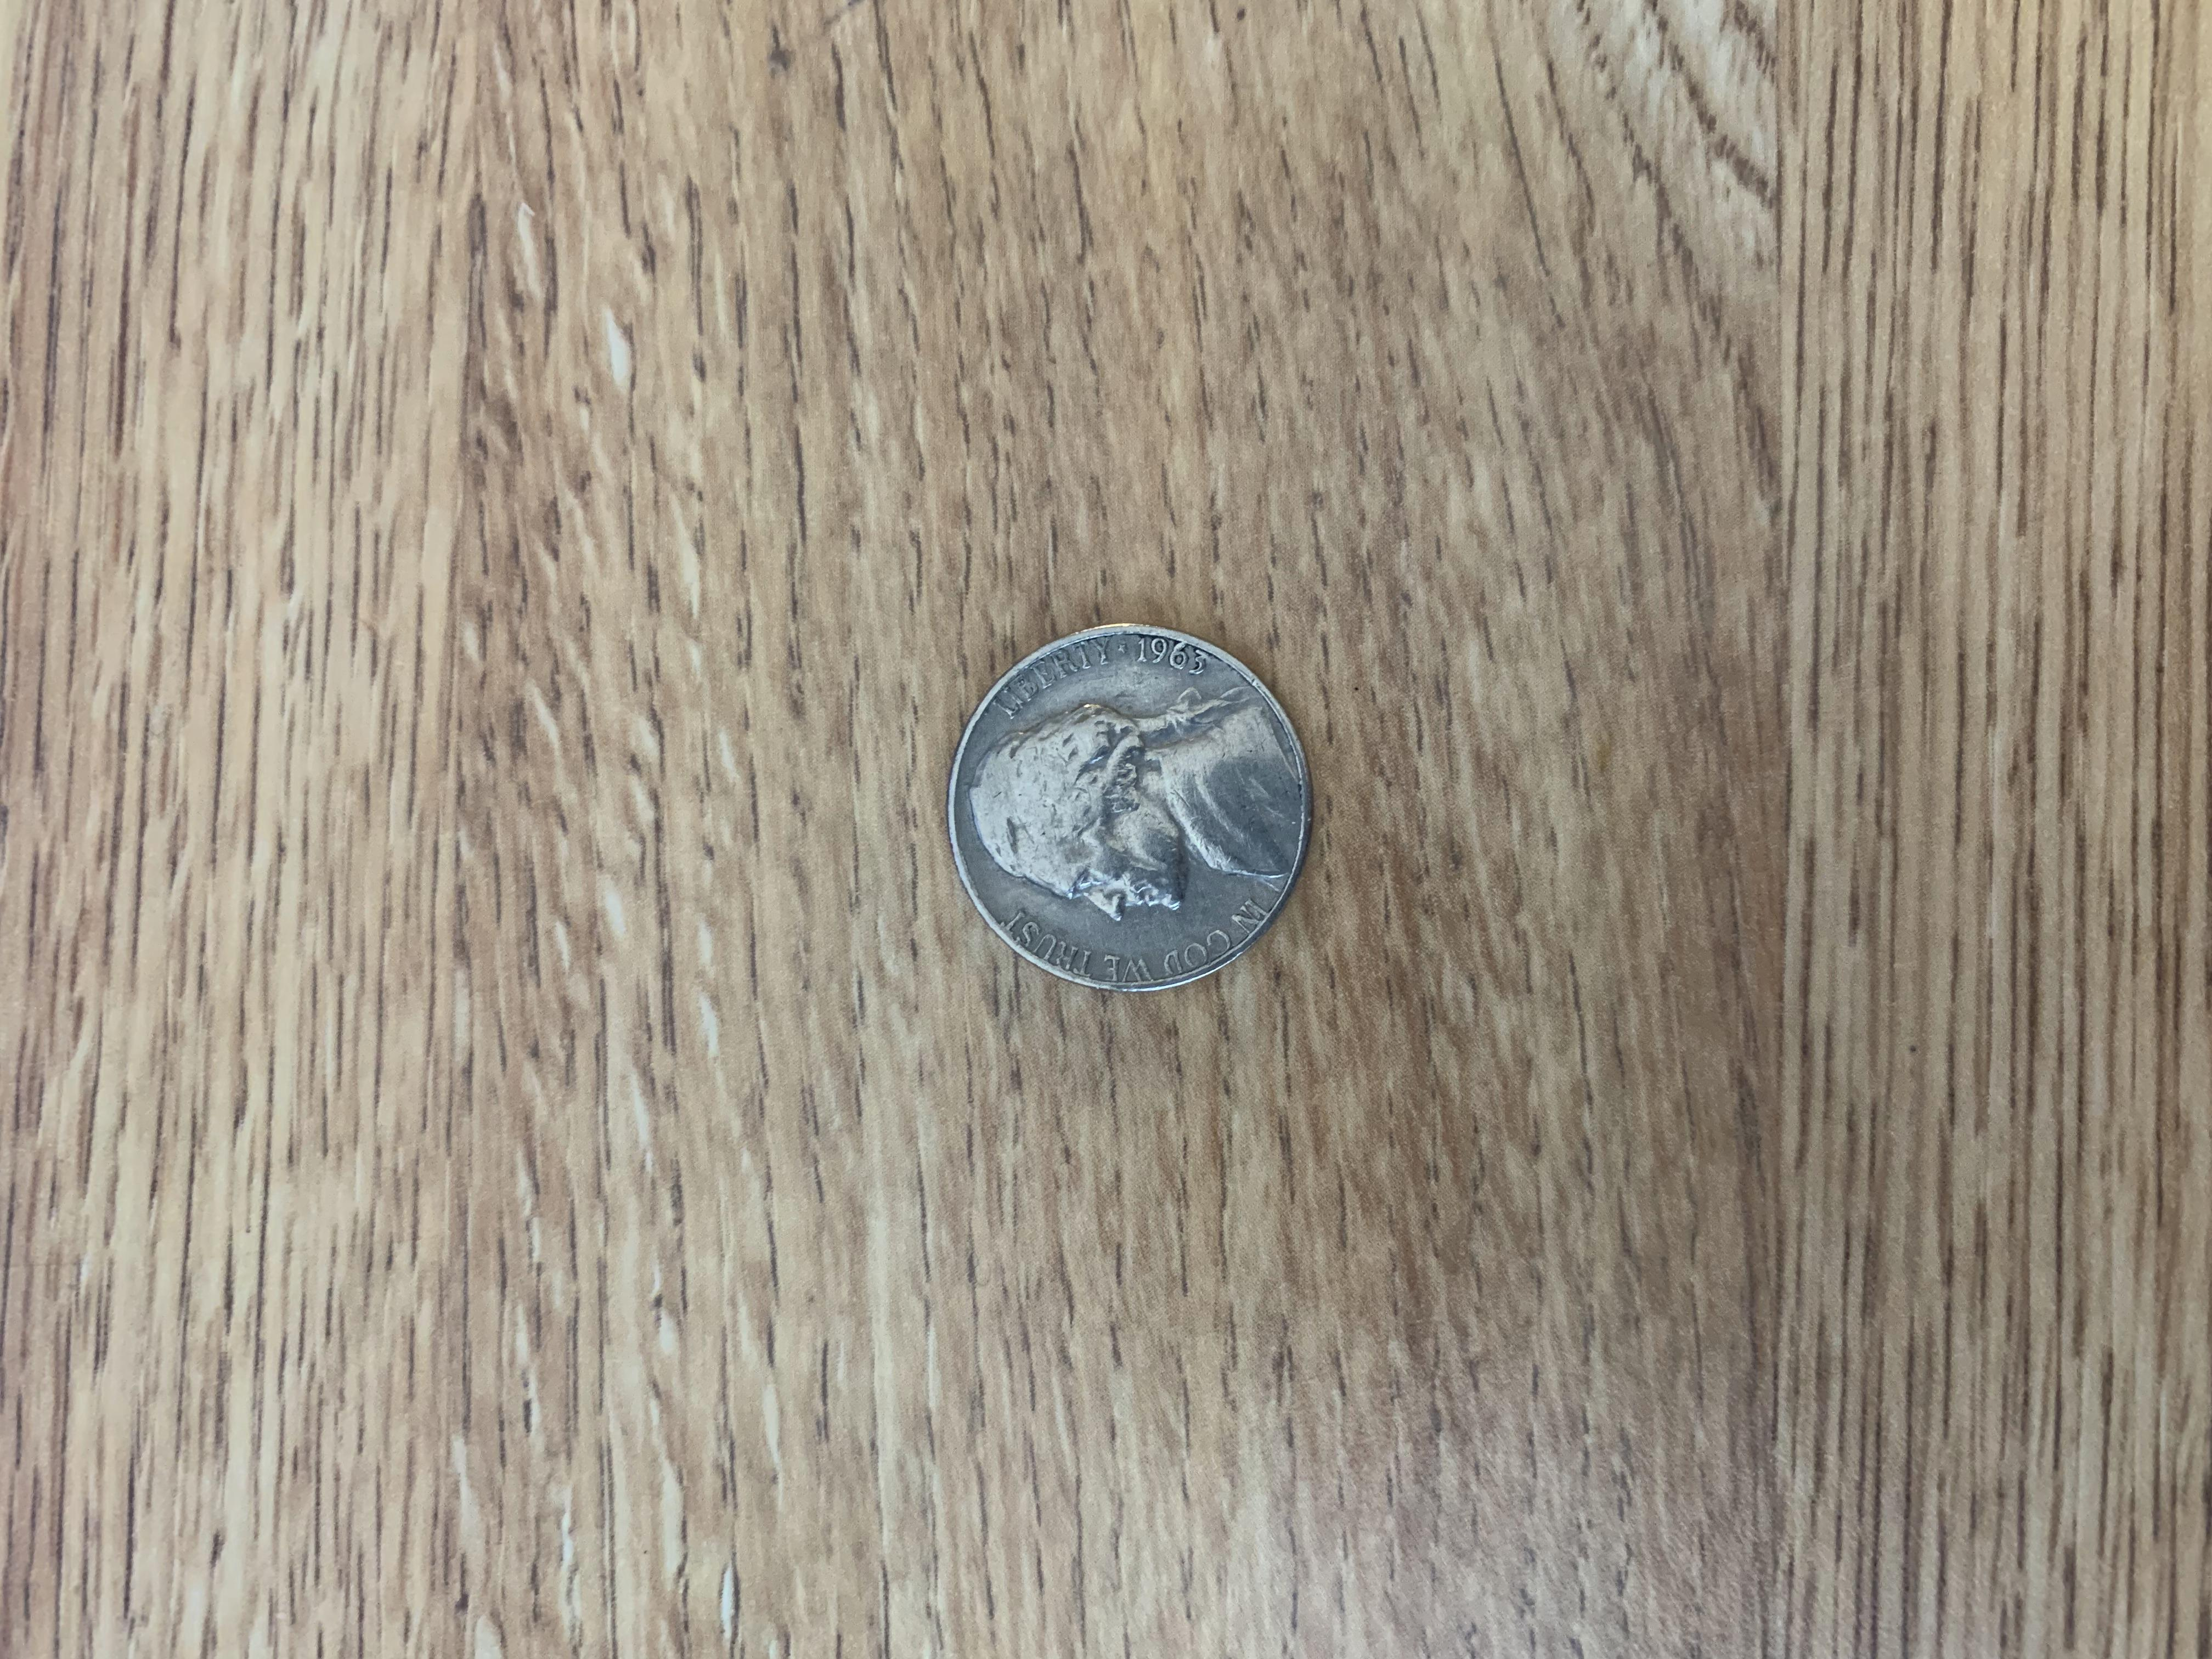Nickel: (923, 612, 1334, 1007)
